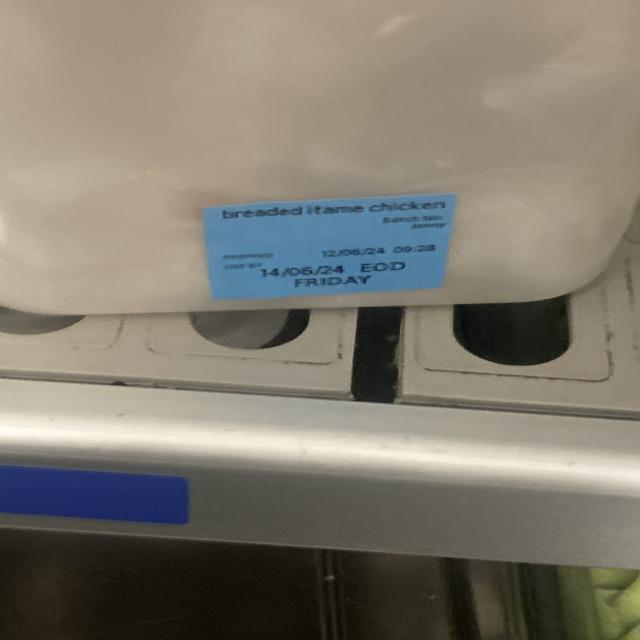product-labels: (197, 193, 469, 301)
